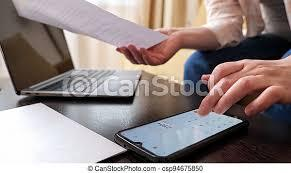Calculator: (157, 108, 243, 138)
